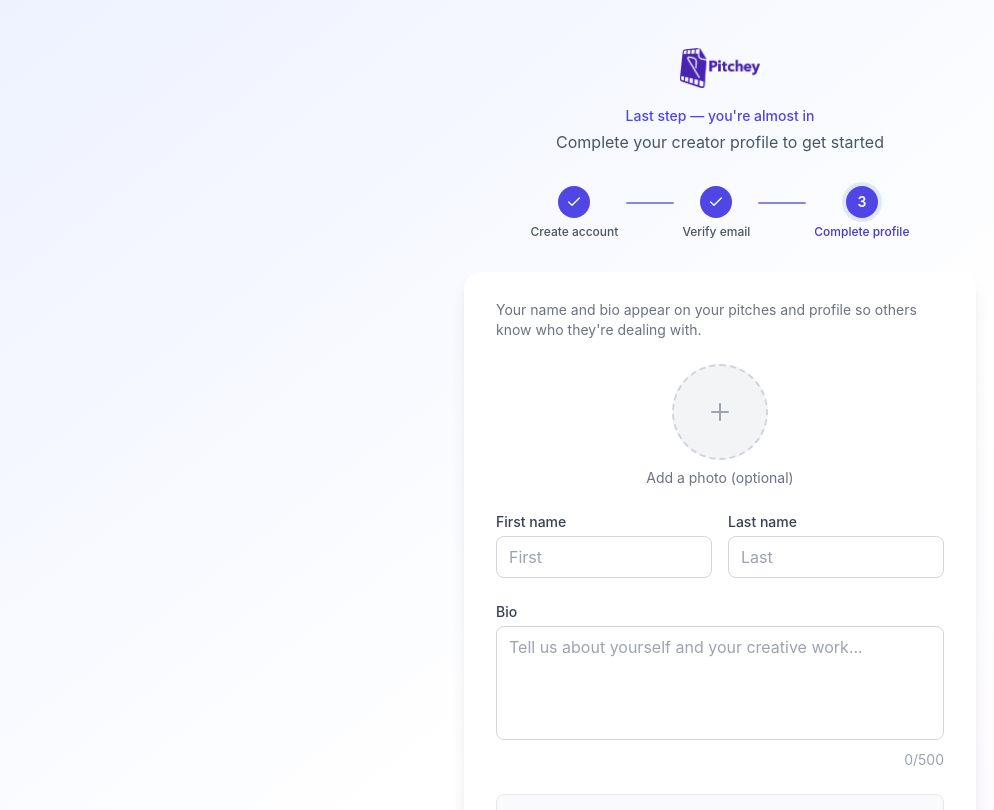
CreatorOnboardingPage (OnboardingPage) › Form submission › shows submitting state during form submission
Type "Jane" into the field labelled "First name" at {"x": 604, "y": 557}, box [496,536,712,578]
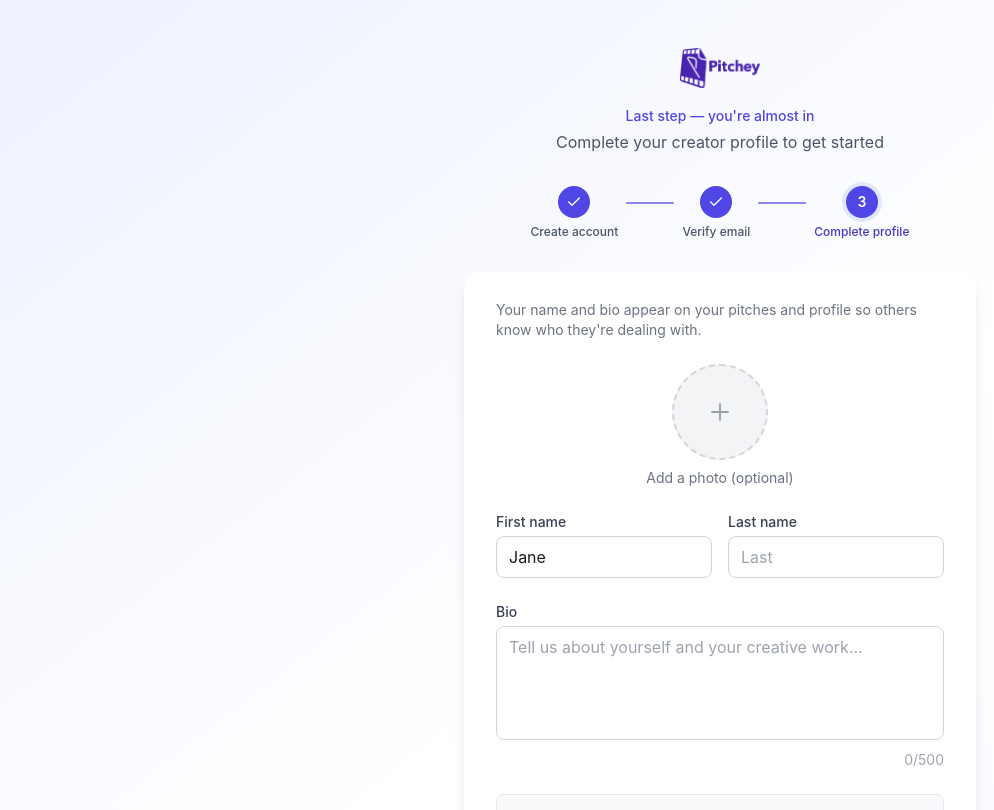
Type "Smith" into the field labelled "Last name" at {"x": 836, "y": 557}, box [728,536,944,578]
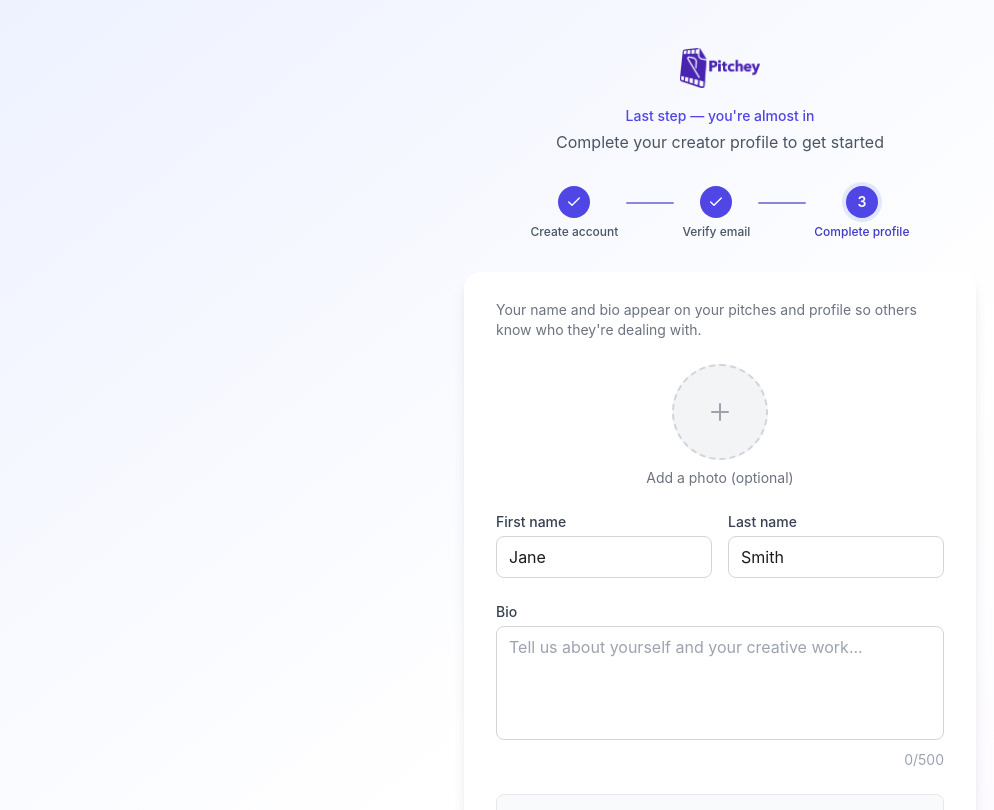
Type "Experienced director." into the text box labelled "Bio" at {"x": 720, "y": 683}, box [496,626,944,740]
(page scrolled)
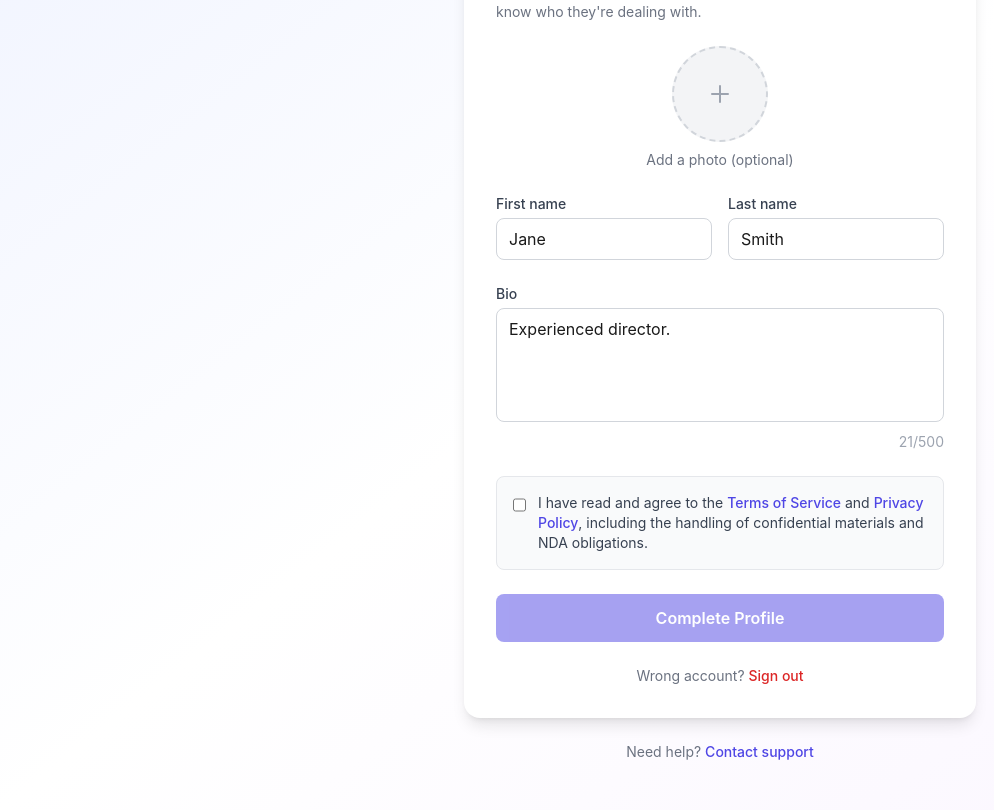
Click the checkbox at {"x": 520, "y": 505}, box [513,495,526,515]
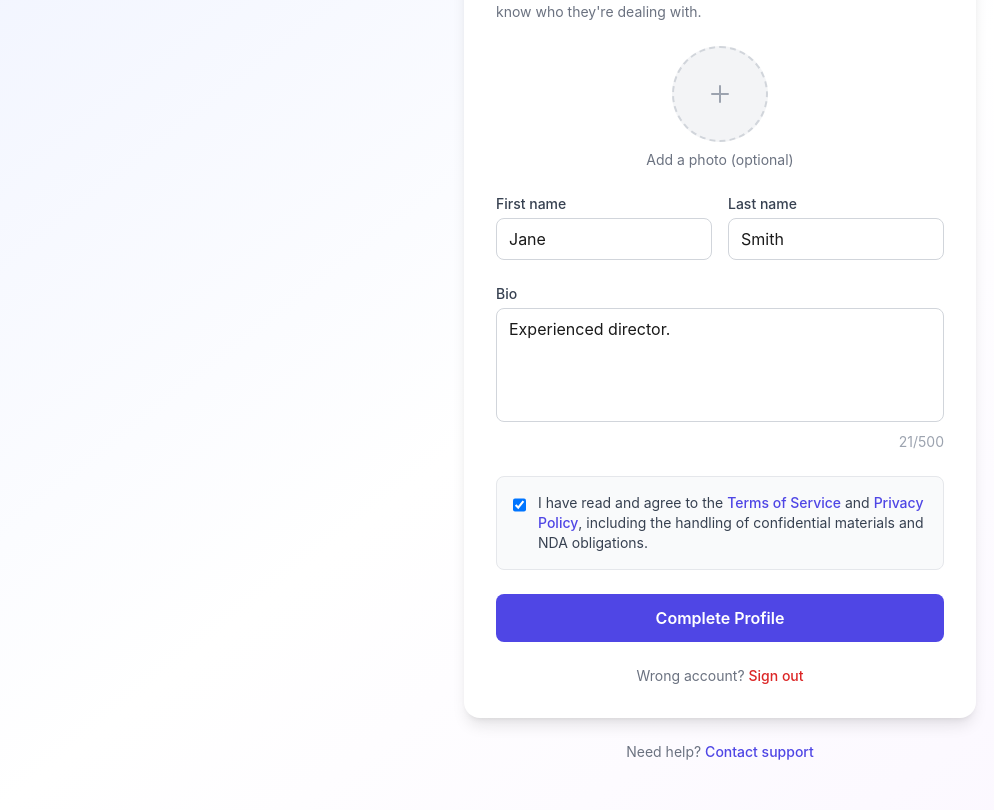
Click the button "Complete Profile" at {"x": 720, "y": 618}, box [496,594,944,642]
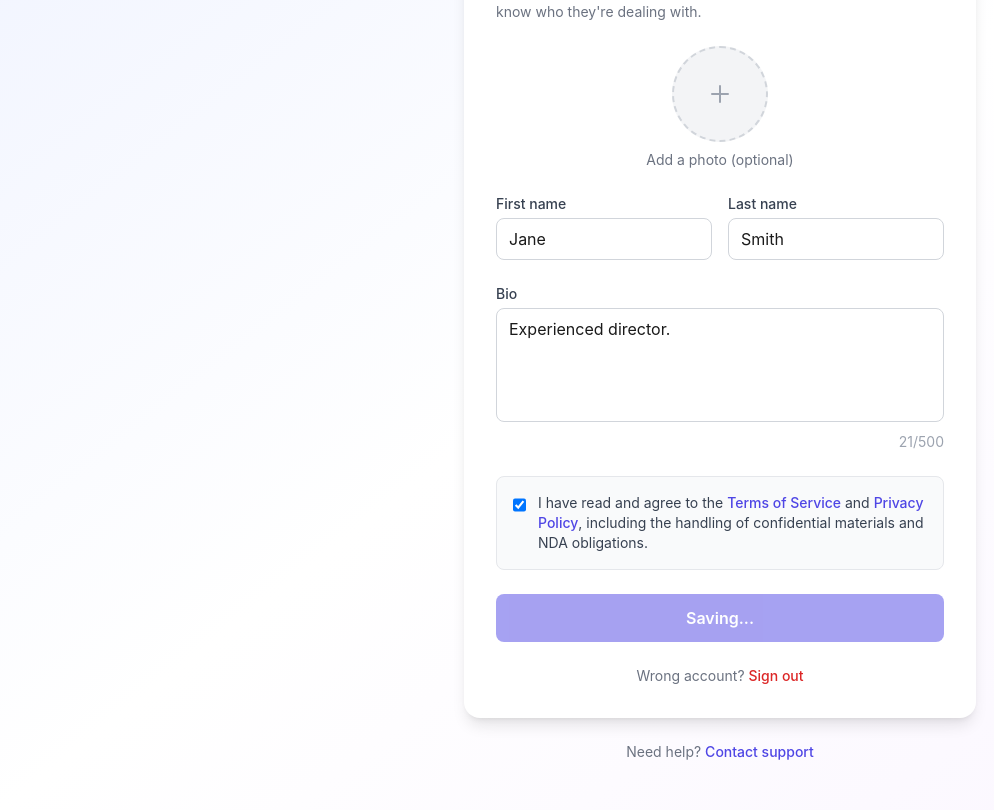
Check: the button "Saving..." is shown, box [496,594,944,642]
